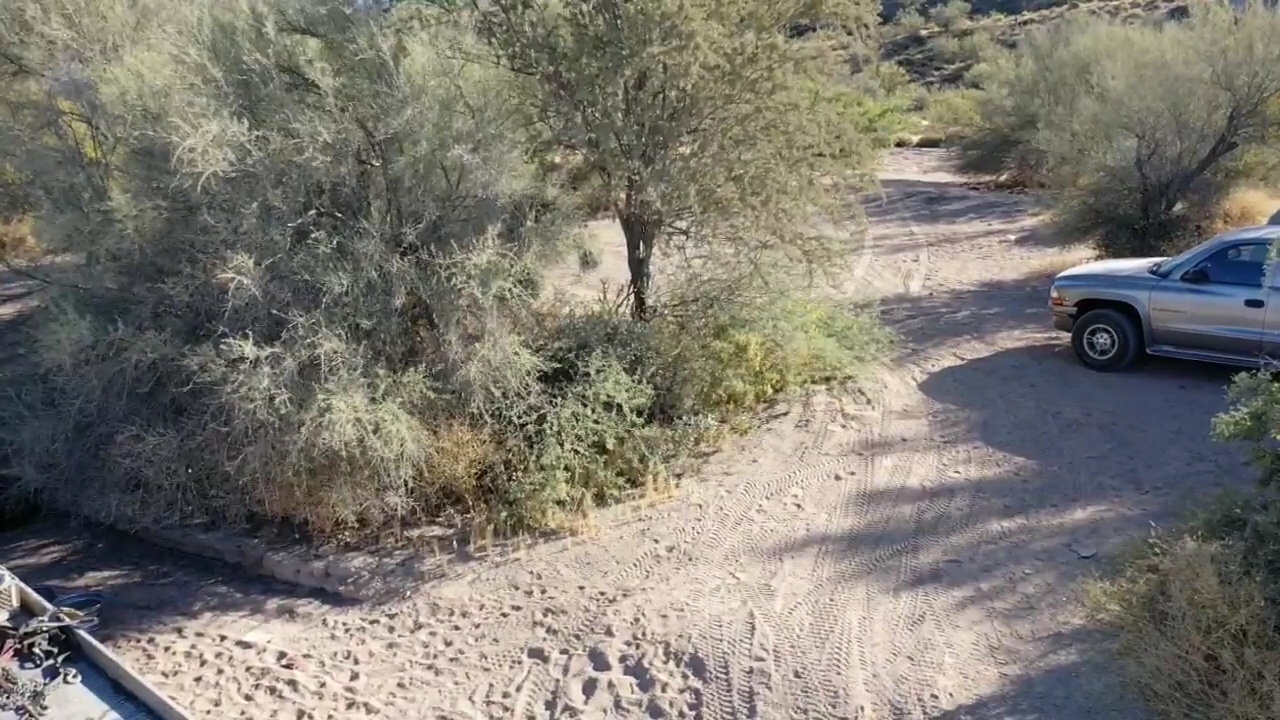araba: (1045, 224, 1280, 378)
